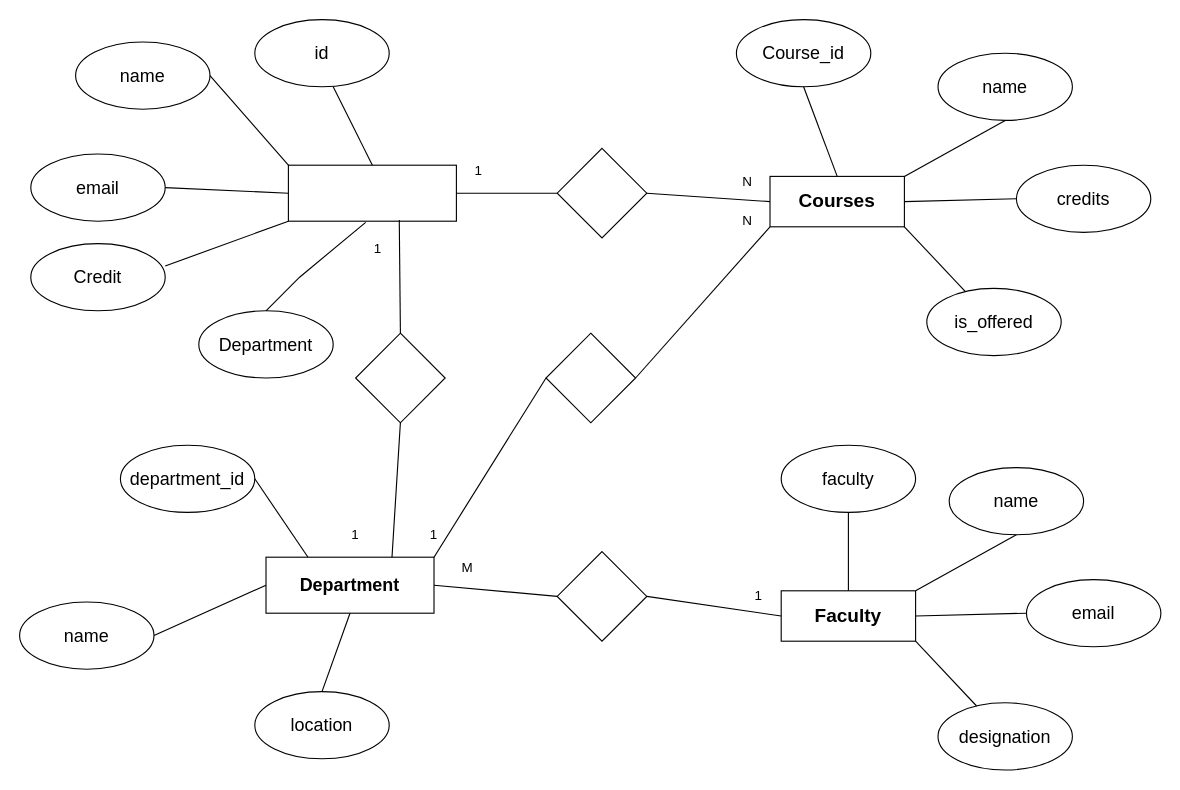
The diagram is 1180 pixels wide and 790 high, and some of its shapes have lost their labels. Here are the shapes that lost their labels. From the top down, the centre of each, then its label:
At (371,192): "Student".
At (601,192): "enroll".
At (399,377): "assigned".
At (590,377): "teach".
At (601,595): "associated".
